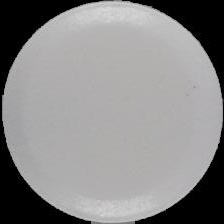13668-091: (0, 0, 224, 224)
